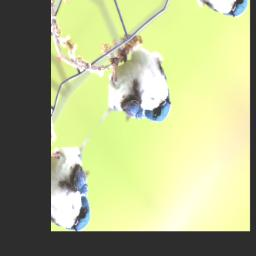Swallow: (79, 22, 188, 169)
